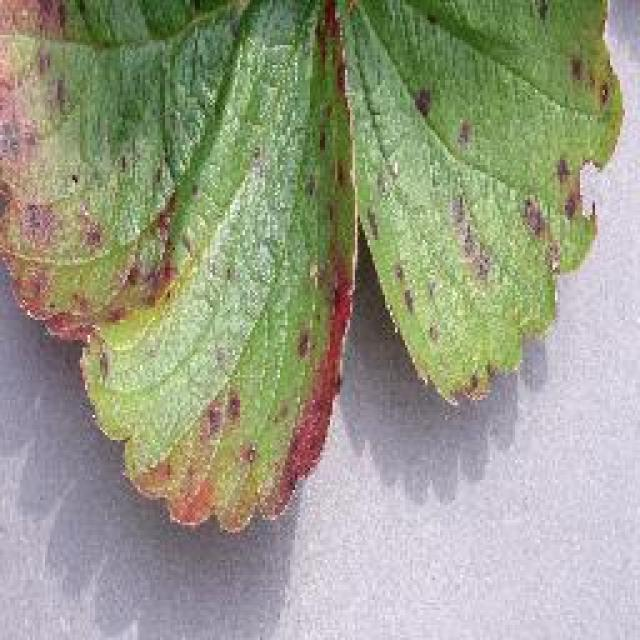Strawberry leaf scorch: (5, 5, 327, 433)
